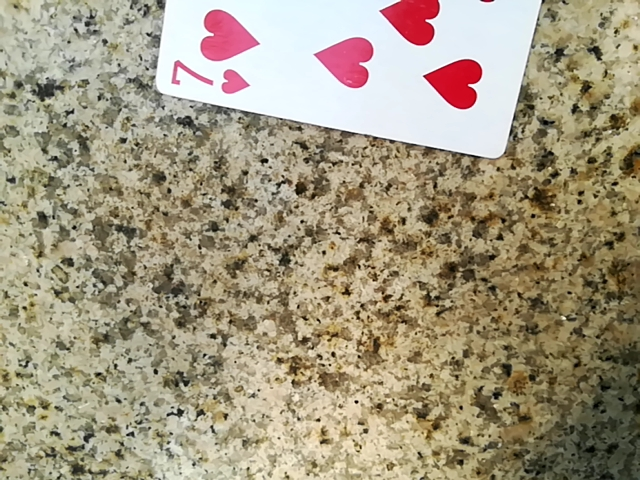hx 7: (154, 0, 564, 152)
